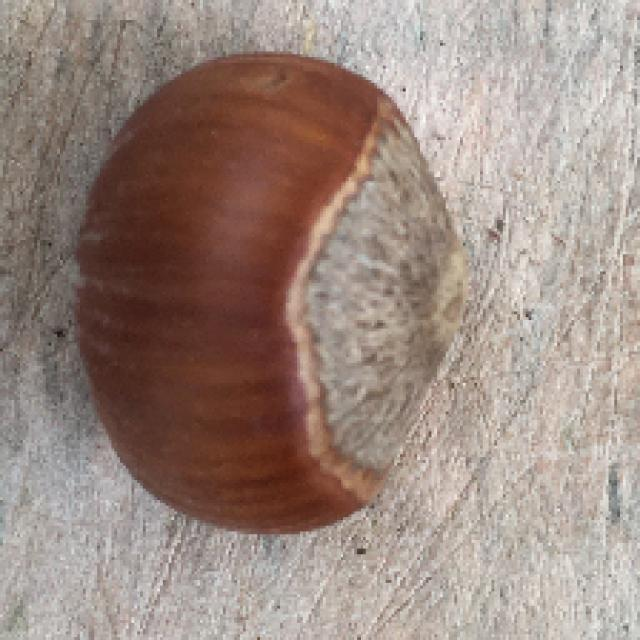qualityHazelnut: (66, 51, 461, 543)
